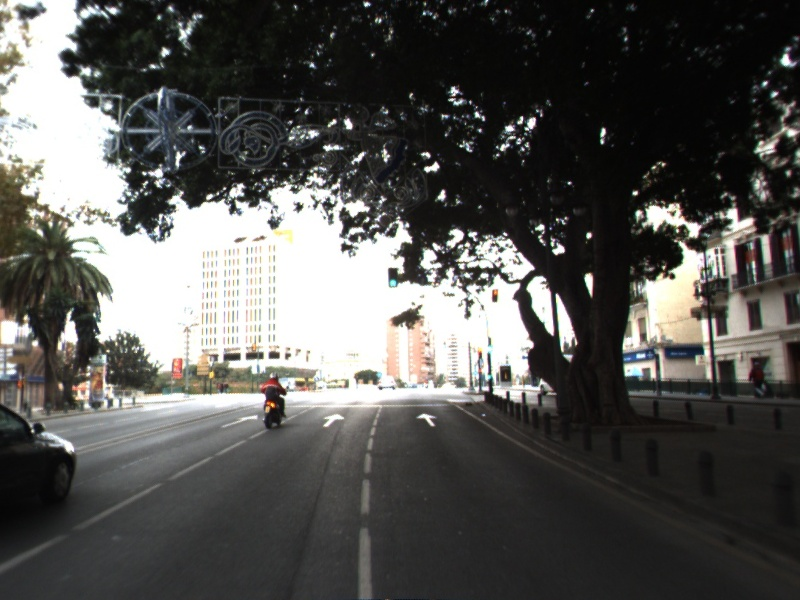STRAIGHT: (218, 413, 260, 430), (320, 411, 347, 429), (414, 411, 439, 429)
